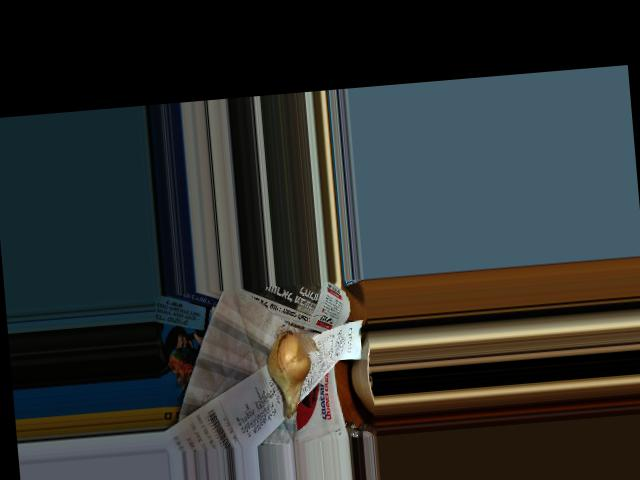onion: (263, 332, 312, 414)
